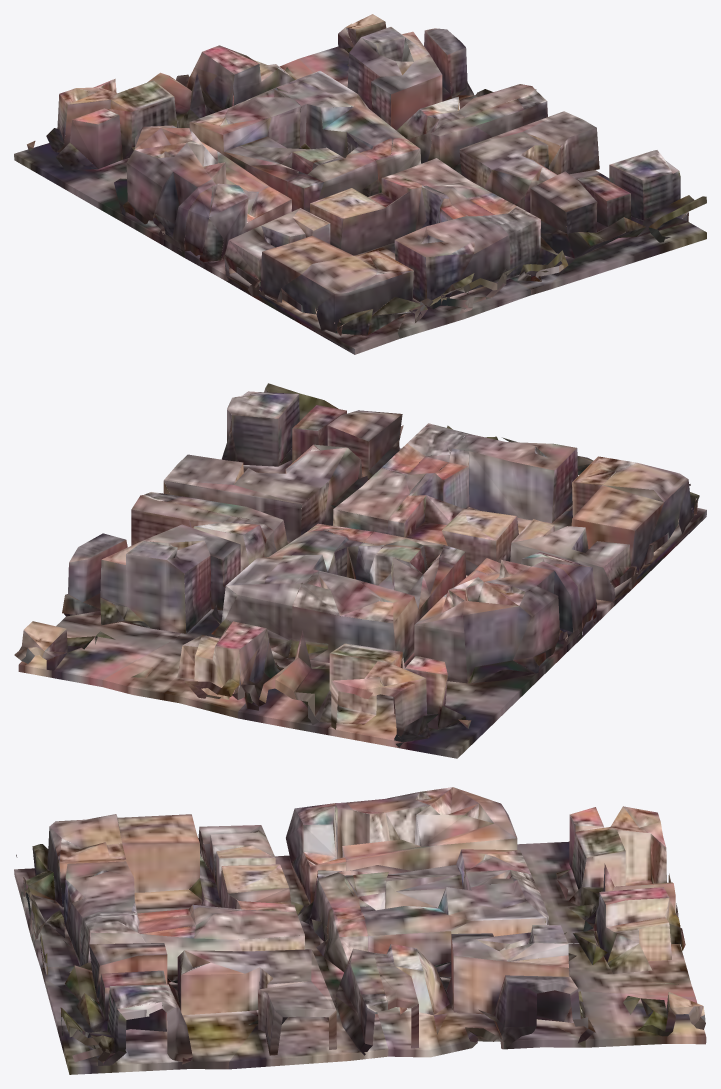
3 renders of one model, top to bottom at view 1: azimuth 30°, elevation 25°; view 2: azimuth 150°, elevation 25°; view 3: azimuth 270°, elevation 25°, orthographic. The views are drawn at different scales.
Parts seen in each view (by area): view 1: Mesh_0; view 2: Mesh_0; view 3: Mesh_0.
Part boxes in pixels (x1,y1,x2,y2): Mesh_0: (14,14,706,354); Mesh_0: (14,383,706,758); Mesh_0: (14,787,706,1074).
Bounding box in the file's own units: 266 × 46.91 × 330.
Materials: 2 (2 with a texture image).
